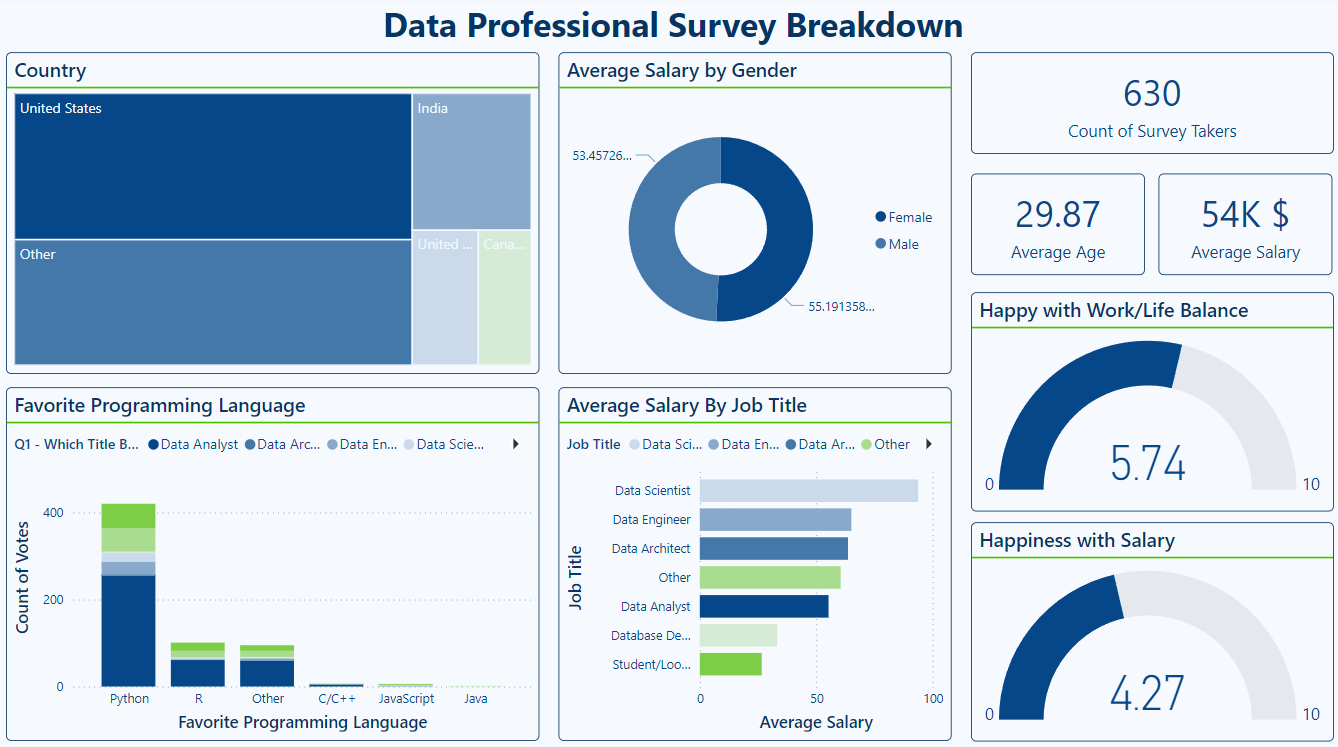

The dashboard page shown, as its layout file describes it:
{"tool":"powerbi","page":{"name":"Data","canvas":[1280,720],"ordinal":0},"visuals":[{"type":"textbox","box":[9.6,0,1270.7,61.7],"z":0},{"type":"card","fields":{"Values":["CountNonNull(Data Professional Survey.Unique ID)"]},"box":[928.1,53.9,345.3,96.7],"z":1000},{"type":"card","fields":{"Values":["Avg(Data Professional Survey.Q10 - Current Age)"]},"box":[928.1,168.5,165.7,96.7],"z":2000},{"type":"barChart","title":"Average Salary By Job Title","fields":{"Category":["Data Professional Survey.Q1 - Which Title Best Fits your Current Role?.1"],"Y":["Avg(Data Professional Survey.Average Salary)"],"Series":["Data Professional Survey.Q1 - Which Title Best Fits your Current Role?.1"]},"box":[535.9,372.9,374.3,337],"z":3000},{"type":"columnChart","title":"Favorite Programming Language","fields":{"Category":["Data Professional Survey.Q5 - Favorite Programming Language.1"],"Y":["CountNonNull(Data Professional Survey.Unique ID)"],"Series":["Data Professional Survey.Q1 - Which Title Best Fits your Current Role?.1"]},"box":[9.7,372.9,508.2,337],"z":4000},{"type":"treemap","title":"Country","fields":{"Group":["Data Professional Survey.Q11 - Which Country do you live in?.1"],"Values":["CountNonNull(Data Professional Survey.Q11 - Which Country do you live in?.1)"]},"box":[9.7,53.9,508.2,306.6],"z":5000},{"type":"gauge","title":"Happy with Work/Life Balance","fields":{"Y":["Avg(Data Professional Survey.Q6 - How Happy are you in your Current Position with the following? (Work/Life Balance))"],"MinValue":["Min(Data Professional Survey.Q6 - How Happy are you in your Current Position with the following? (Work/Life Balance))1"],"MaxValue":["Max(Data Professional Survey.Q6 - How Happy are you in your Current Position with the following? (Work/Life Balance))2"]},"box":[928.1,281.7,345.3,208.5],"z":6000},{"type":"gauge","title":"Happiness with Salary","fields":{"Y":["Avg(Data Professional Survey.Q6 - How Happy are you in your Current Position with the following? (Salary))"],"MinValue":["Min(Data Professional Survey.Q6 - How Happy are you in your Current Position with the following? (Salary))"],"MaxValue":["Max(Data Professional Survey.Q6 - How Happy are you in your Current Position with the following? (Salary))"]},"box":[928.1,501.3,345.3,208.5],"z":7000},{"type":"donutChart","title":"Average Salary by Gender","fields":{"Category":["Data Professional Survey.Q9 - Male/Female?"],"Y":["Avg(Data Professional Survey.Average Salary)"]},"box":[535.9,53.9,374.3,306.6],"z":8000},{"type":"card","fields":{"Values":["Avg(Data Professional Survey.Average Salary)"]},"box":[1107.6,168.5,165.7,96.7],"z":9000}]}

Visuals, with their boxes in screenshot pixels (x1, y1, x2, y2), scaled from the page's 1280x720 canvas onto the 1338x747 screenshot:
textbox: x1=10, y1=0, x2=1337, y2=64
card - CountNonNull(Data Professional Survey.Unique ID): x1=970, y1=56, x2=1331, y2=156
card - Avg(Data Professional Survey.Q10 - Current Age): x1=970, y1=175, x2=1143, y2=275
"Average Salary By Job Title" barChart: x1=560, y1=387, x2=951, y2=737
"Favorite Programming Language" columnChart: x1=10, y1=387, x2=541, y2=737
"Country" treemap: x1=10, y1=56, x2=541, y2=374
"Happy with Work/Life Balance" gauge: x1=970, y1=292, x2=1331, y2=509
"Happiness with Salary" gauge: x1=970, y1=520, x2=1331, y2=736
"Average Salary by Gender" donutChart: x1=560, y1=56, x2=951, y2=374
card - Avg(Data Professional Survey.Average Salary): x1=1158, y1=175, x2=1331, y2=275
